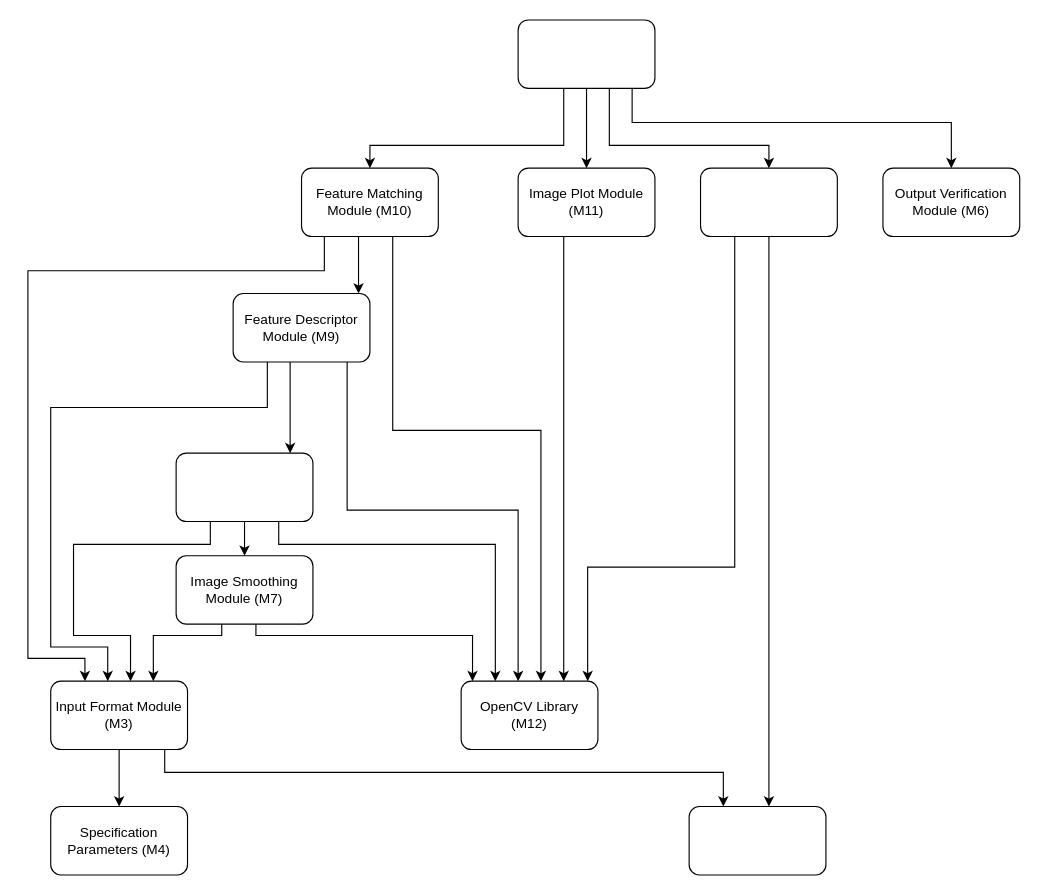
Some shapes in this 1040 by 895 pixel diagram are drawn without their labels. Here are the shapes that lost their labels. From the top down, the box of each, then its label:
(517, 19, 655, 88): Control Module (M2)
(699, 167, 837, 237): Output Format Module (M5)
(175, 452, 313, 522): Keypoint Detection Module (M8)
(688, 805, 826, 875): Hardware Hiding Module (M1)
